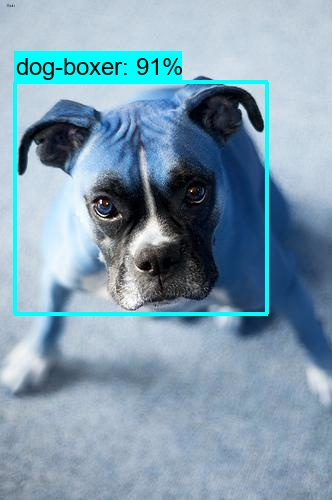dog-boxer: (18, 76, 264, 311)
